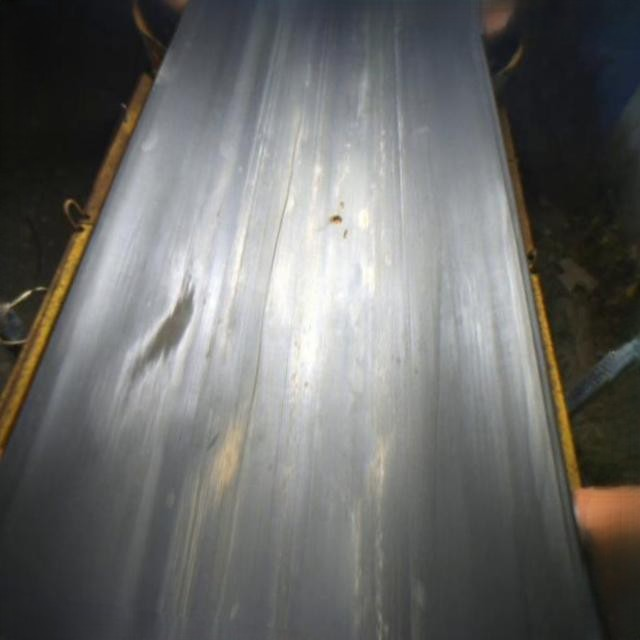Hole: (328, 213, 344, 228)
Tear: (233, 111, 308, 479)
Wear: (109, 257, 208, 410)
